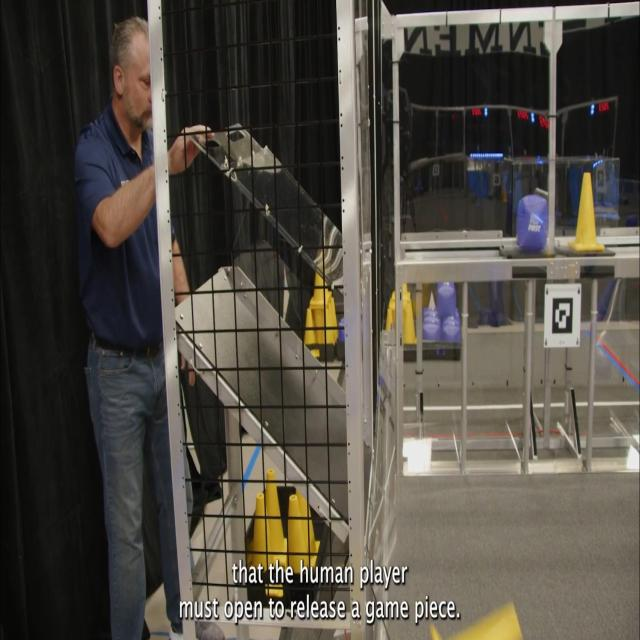frc_cone: (428, 598, 523, 640), (246, 490, 284, 592), (284, 497, 318, 588), (567, 171, 604, 251), (257, 464, 286, 562), (291, 478, 319, 557), (310, 262, 332, 306), (320, 307, 336, 358), (402, 299, 418, 349), (304, 310, 320, 358), (382, 305, 396, 334)
frc_cube: (514, 194, 551, 251), (437, 281, 457, 316), (440, 314, 462, 343), (421, 317, 442, 343)
